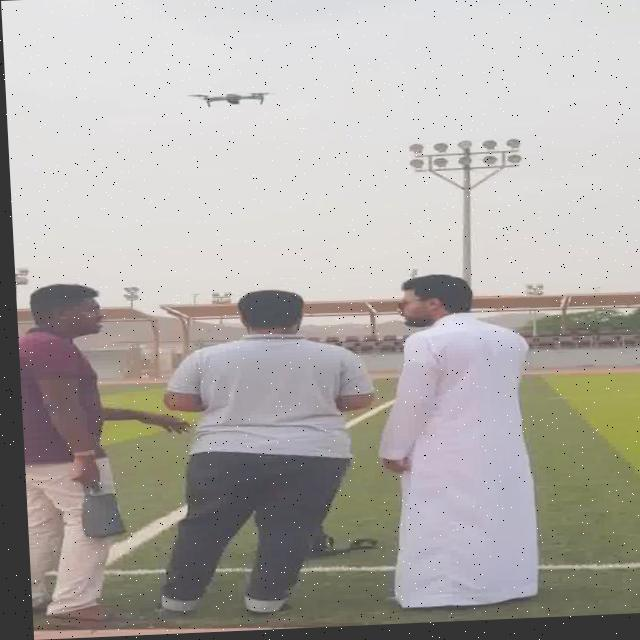drone: (184, 85, 273, 115)
